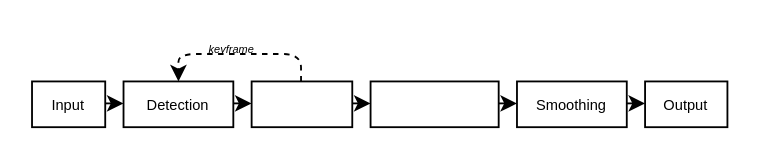
Some shapes in this 759 by 159 pixel diagram are drawn without their labels. The centre of each missing label's shape, as x and y in pixels:
Replacement: (434,103)
Tracking: (301,103)
